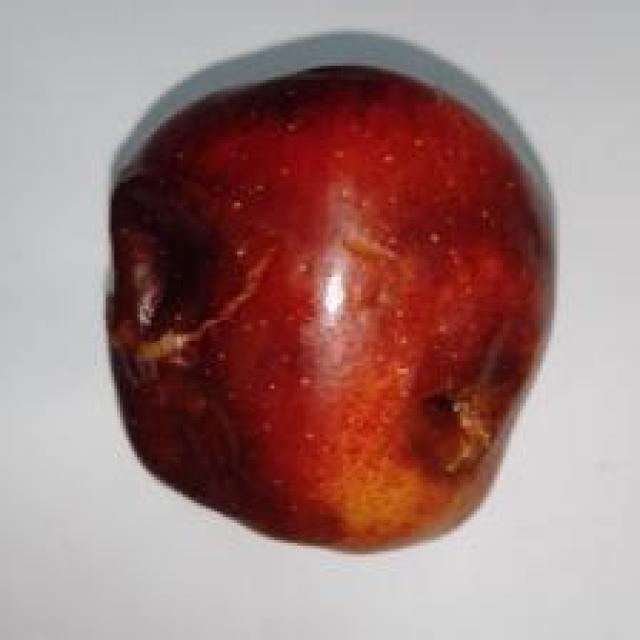rotten apple: (86, 26, 576, 571)
